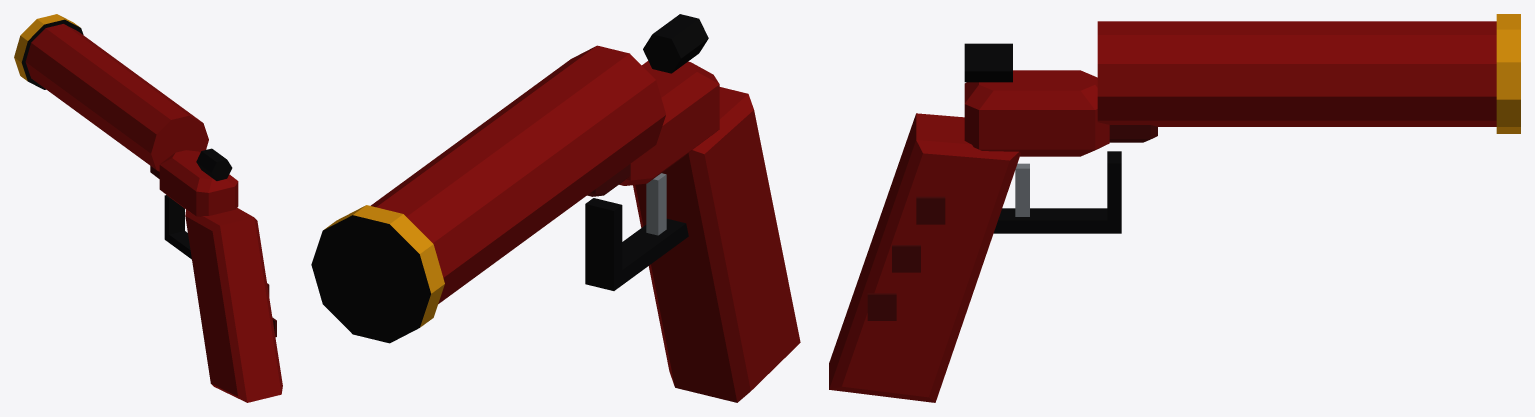
The model's file is SM_Wep_FlareGun.glb.
3 views of the same model, side by side, from view 1: azimuth 30°, elevation 25°; view 2: azimuth 150°, elevation 25°; view 3: azimuth 270°, elevation 25° (orthographic). The views are drawn at different scales.
Visible parts, largest first — view 1: SM_Wep_FlareGun, SM_Wep_FlareGun_Barrel; view 2: SM_Wep_FlareGun_Barrel, SM_Wep_FlareGun; view 3: SM_Wep_FlareGun, SM_Wep_FlareGun_Barrel.
Boxes of the visible parts, bbox=[...] form: SM_Wep_FlareGun: bbox=[159, 148, 282, 402]; SM_Wep_FlareGun_Barrel: bbox=[14, 14, 208, 178]; SM_Wep_FlareGun_Barrel: bbox=[311, 45, 665, 343]; SM_Wep_FlareGun: bbox=[585, 14, 800, 402]; SM_Wep_FlareGun: bbox=[829, 43, 1121, 402]; SM_Wep_FlareGun_Barrel: bbox=[1097, 14, 1520, 142].
Bounding box in the file's own units: 0.05 × 0.1678 × 0.286.
Materials: 1 (1 with a texture image).
